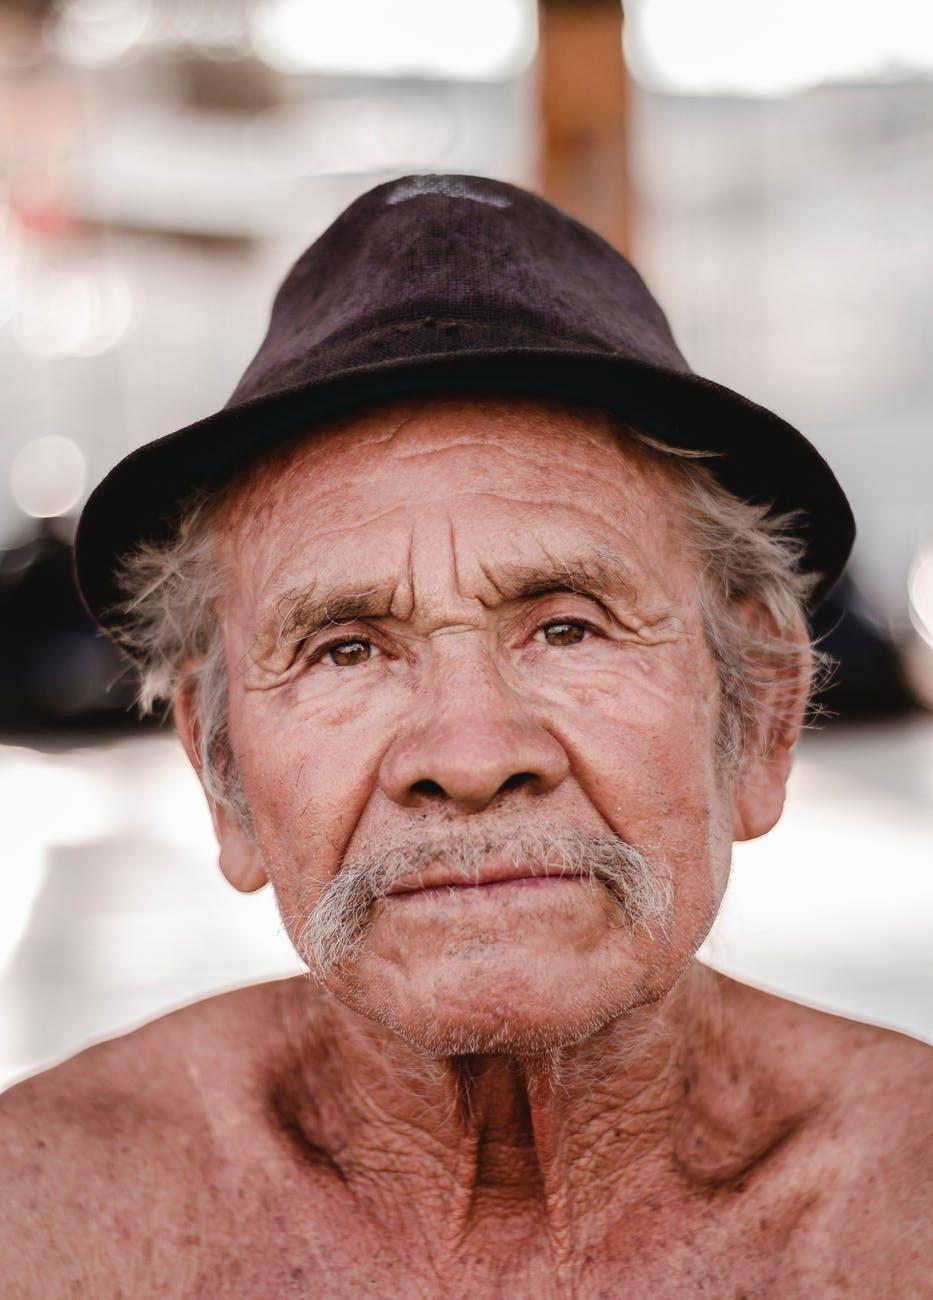Wrinkles: (397, 441, 627, 495), (264, 506, 400, 588), (458, 493, 632, 540), (357, 413, 421, 448), (408, 527, 416, 620), (451, 523, 459, 594), (538, 540, 554, 569), (484, 567, 501, 591), (390, 583, 399, 610)
